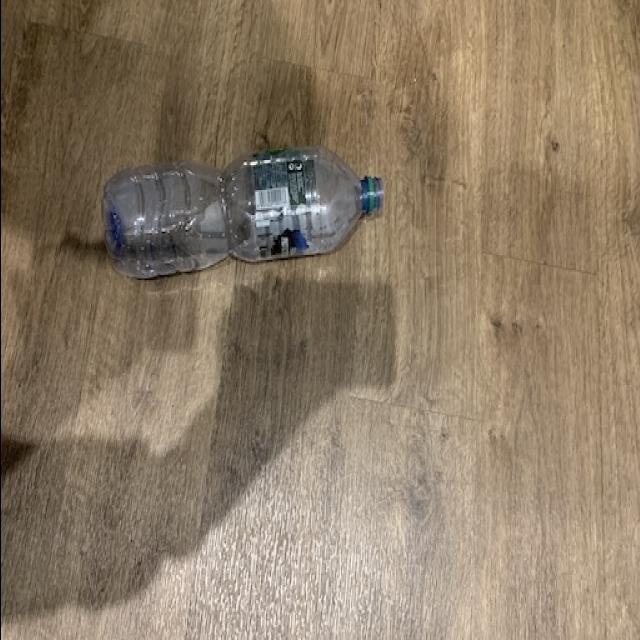litter: (95, 150, 389, 282)
